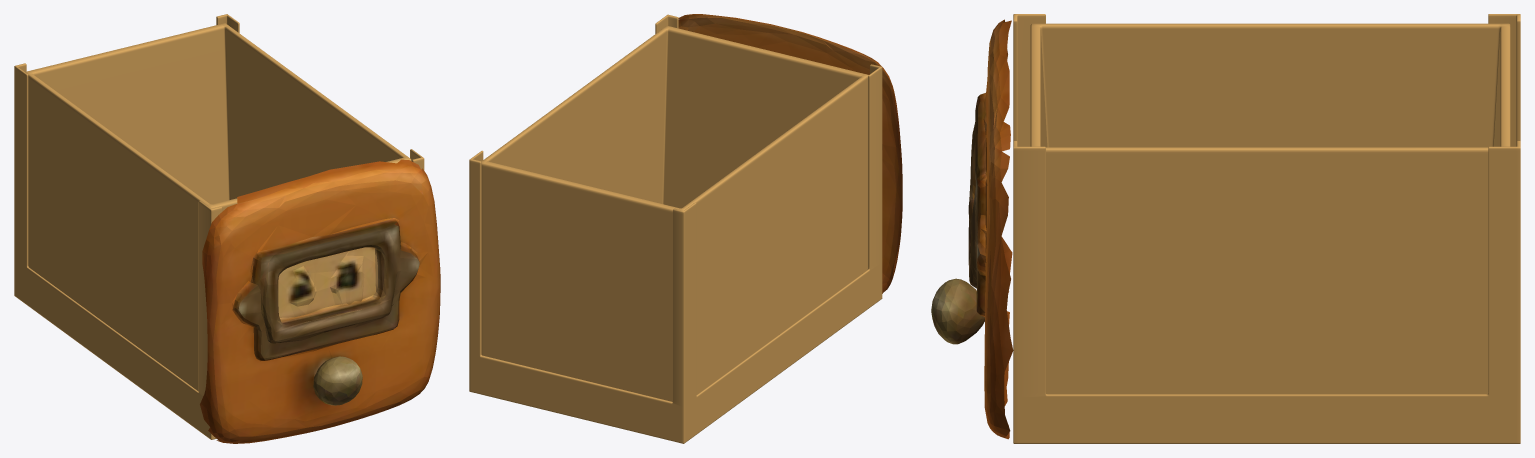
File: drawer_top_middle.glb
3 renders of one model, left to right at view 1: azimuth 30°, elevation 25°; view 2: azimuth 150°, elevation 25°; view 3: azimuth 270°, elevation 25°, orthographic. The views are drawn at different scales.
Visible parts, largest first — view 1: prefab_drawer_body_2, source_front_cap_0; view 2: prefab_drawer_body_2, source_front_cap_0; view 3: prefab_drawer_body_2, source_front_cap_0.
Part boxes in pixels (left/top/right/bottom): prefab_drawer_body_2: left=14, top=14, right=424, bottom=439; source_front_cap_0: left=200, top=159, right=440, bottom=443; prefab_drawer_body_2: left=469, top=14, right=882, bottom=443; source_front_cap_0: left=678, top=14, right=902, bottom=293; prefab_drawer_body_2: left=1013, top=14, right=1520, bottom=443; source_front_cap_0: left=931, top=19, right=1013, bottom=439.
Size of the model in its own units: 0.0983 by 0.1016 by 0.1647.
2 materials, 1 textured.
